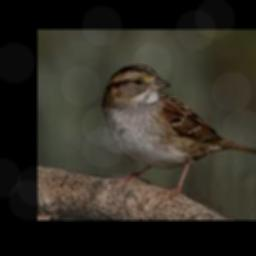Sparrow: (102, 64, 256, 200)
